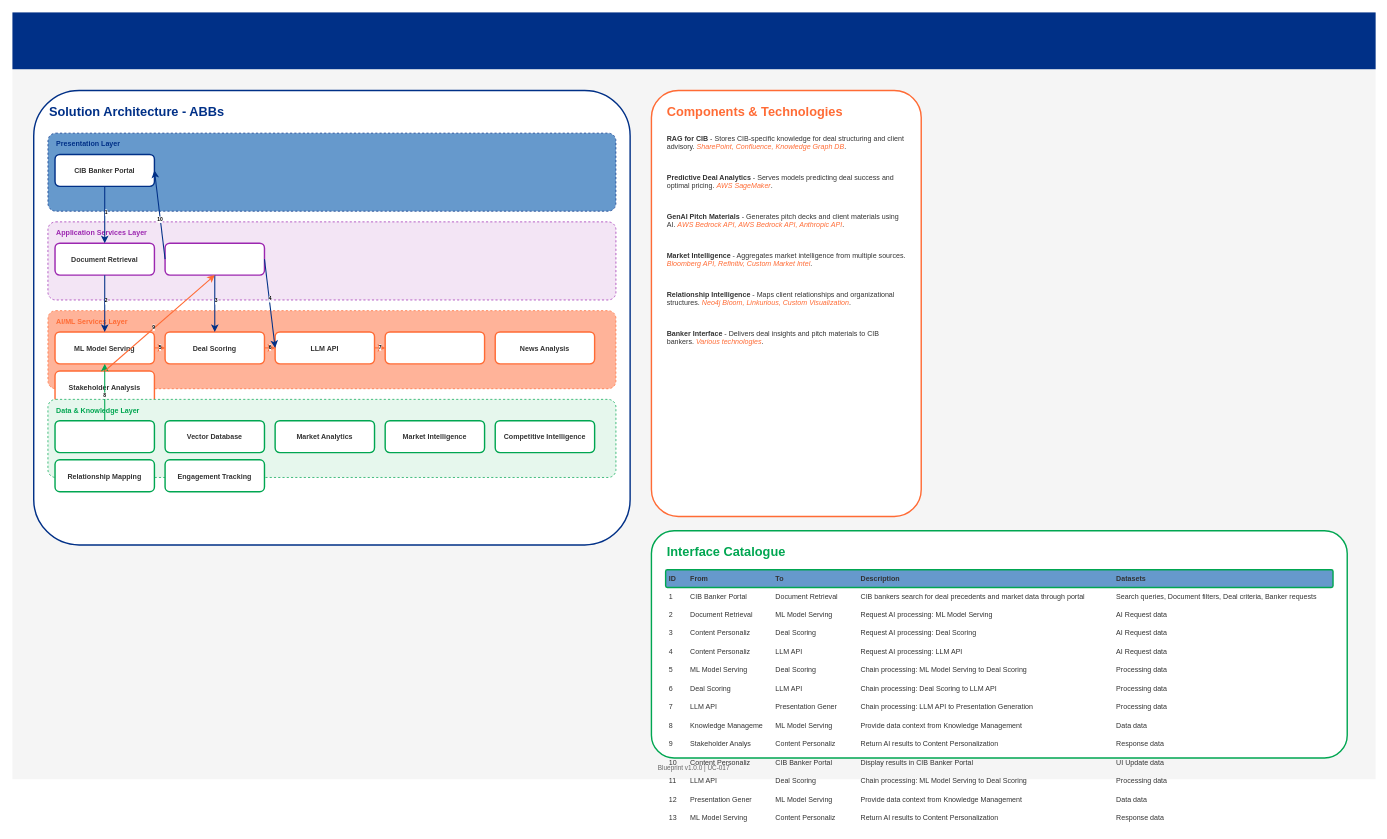
Some shapes in this 1387 by 839 pixel diagram are drawn without their labels. The shapes that lost their labels are listed below. From the top down, each one's centre as x and y in pixels, then its label:
At pixel 693 40: "Use Case Blueprint: UC-017 FrontLine - CIB".
At pixel 214 258: "Content Personalization".
At pixel 434 347: "Presentation Generation".
At pixel 104 436: "Knowledge Management".
